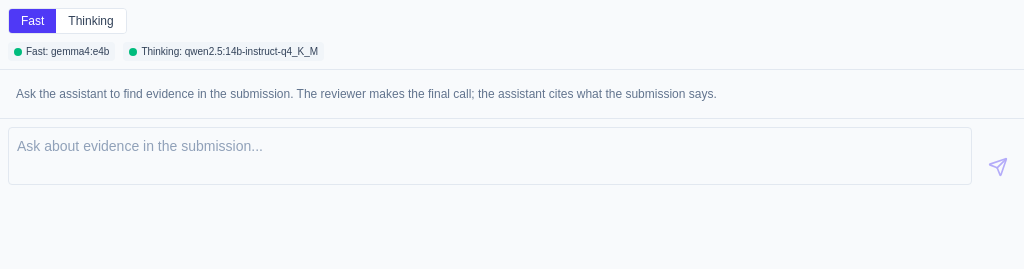
Test: AskAiTab › submit sends a POST to /chat and renders citation + delta events
Type "arsenic exceedance in soil" into the text box with test id "ask-ai-input" at x=490, y=156, box [8,127,972,185]
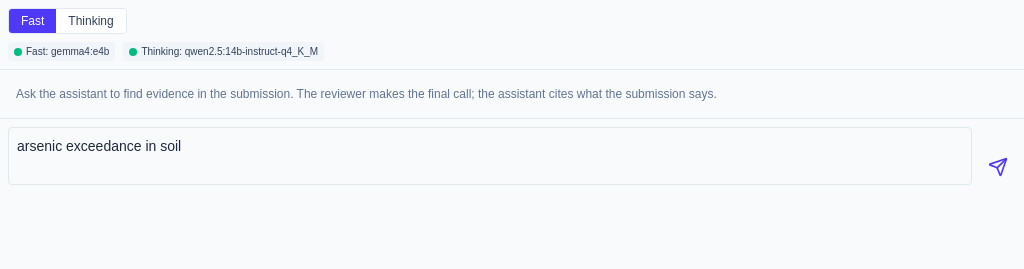
Click the button with test id "ask-ai-send-button" at x=998, y=167, box [980,149,1016,185]
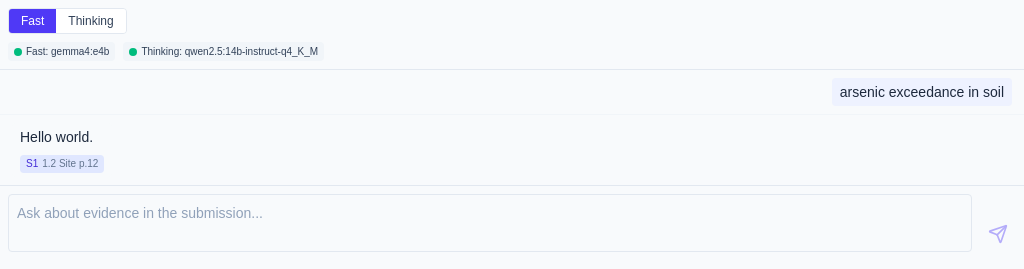
Now the list item with test id "ask-ai-message-assistant" shows "Hello world.", box [20,129,93,145]
Now the text "arsenic exceedance in soil" is shown, box [840,82,1004,102]
